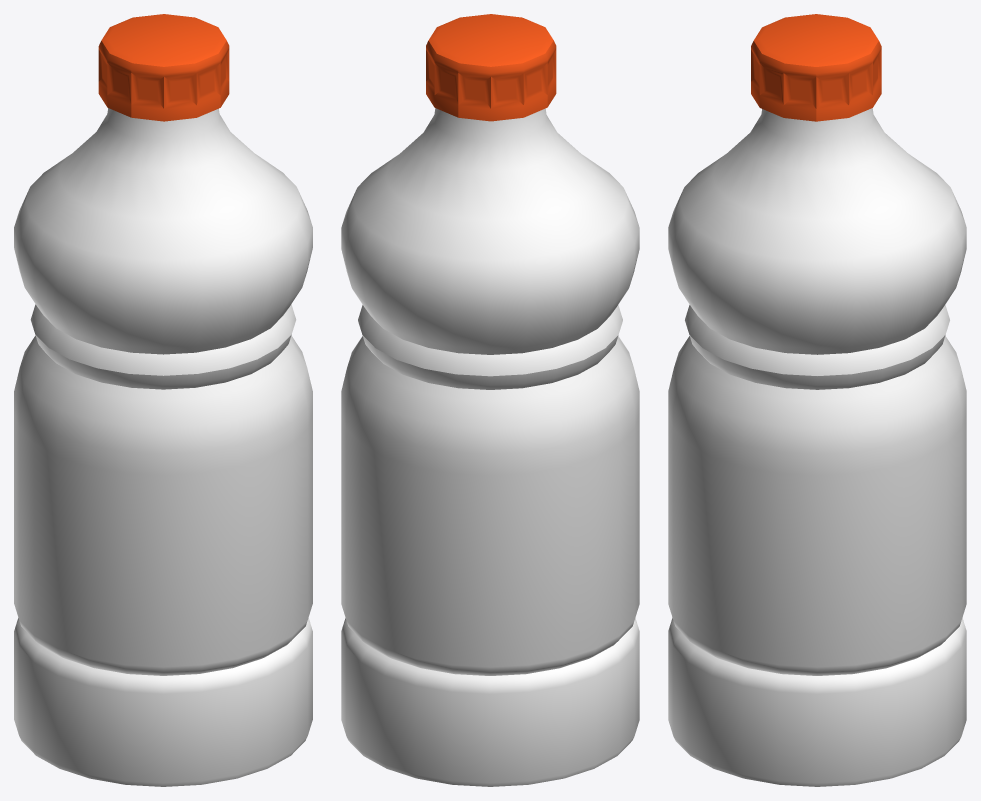
The model's file is Bottles_06.glb.
3 renders of one model, left to right at view 1: azimuth 30°, elevation 25°; view 2: azimuth 150°, elevation 25°; view 3: azimuth 270°, elevation 25°, orthographic.
Parts seen in each view (by area): view 1: Mesh_Bottles_06; view 2: Mesh_Bottles_06; view 3: Mesh_Bottles_06.
Boxes of the visible parts, left/top/right/bottom form: Mesh_Bottles_06: left=14, top=14, right=312, bottom=786; Mesh_Bottles_06: left=341, top=14, right=639, bottom=786; Mesh_Bottles_06: left=668, top=14, right=966, bottom=786.
Bounding box in the file's own units: 0.0719 × 0.1831 × 0.0719.
Materials: 1 (1 with a texture image).
